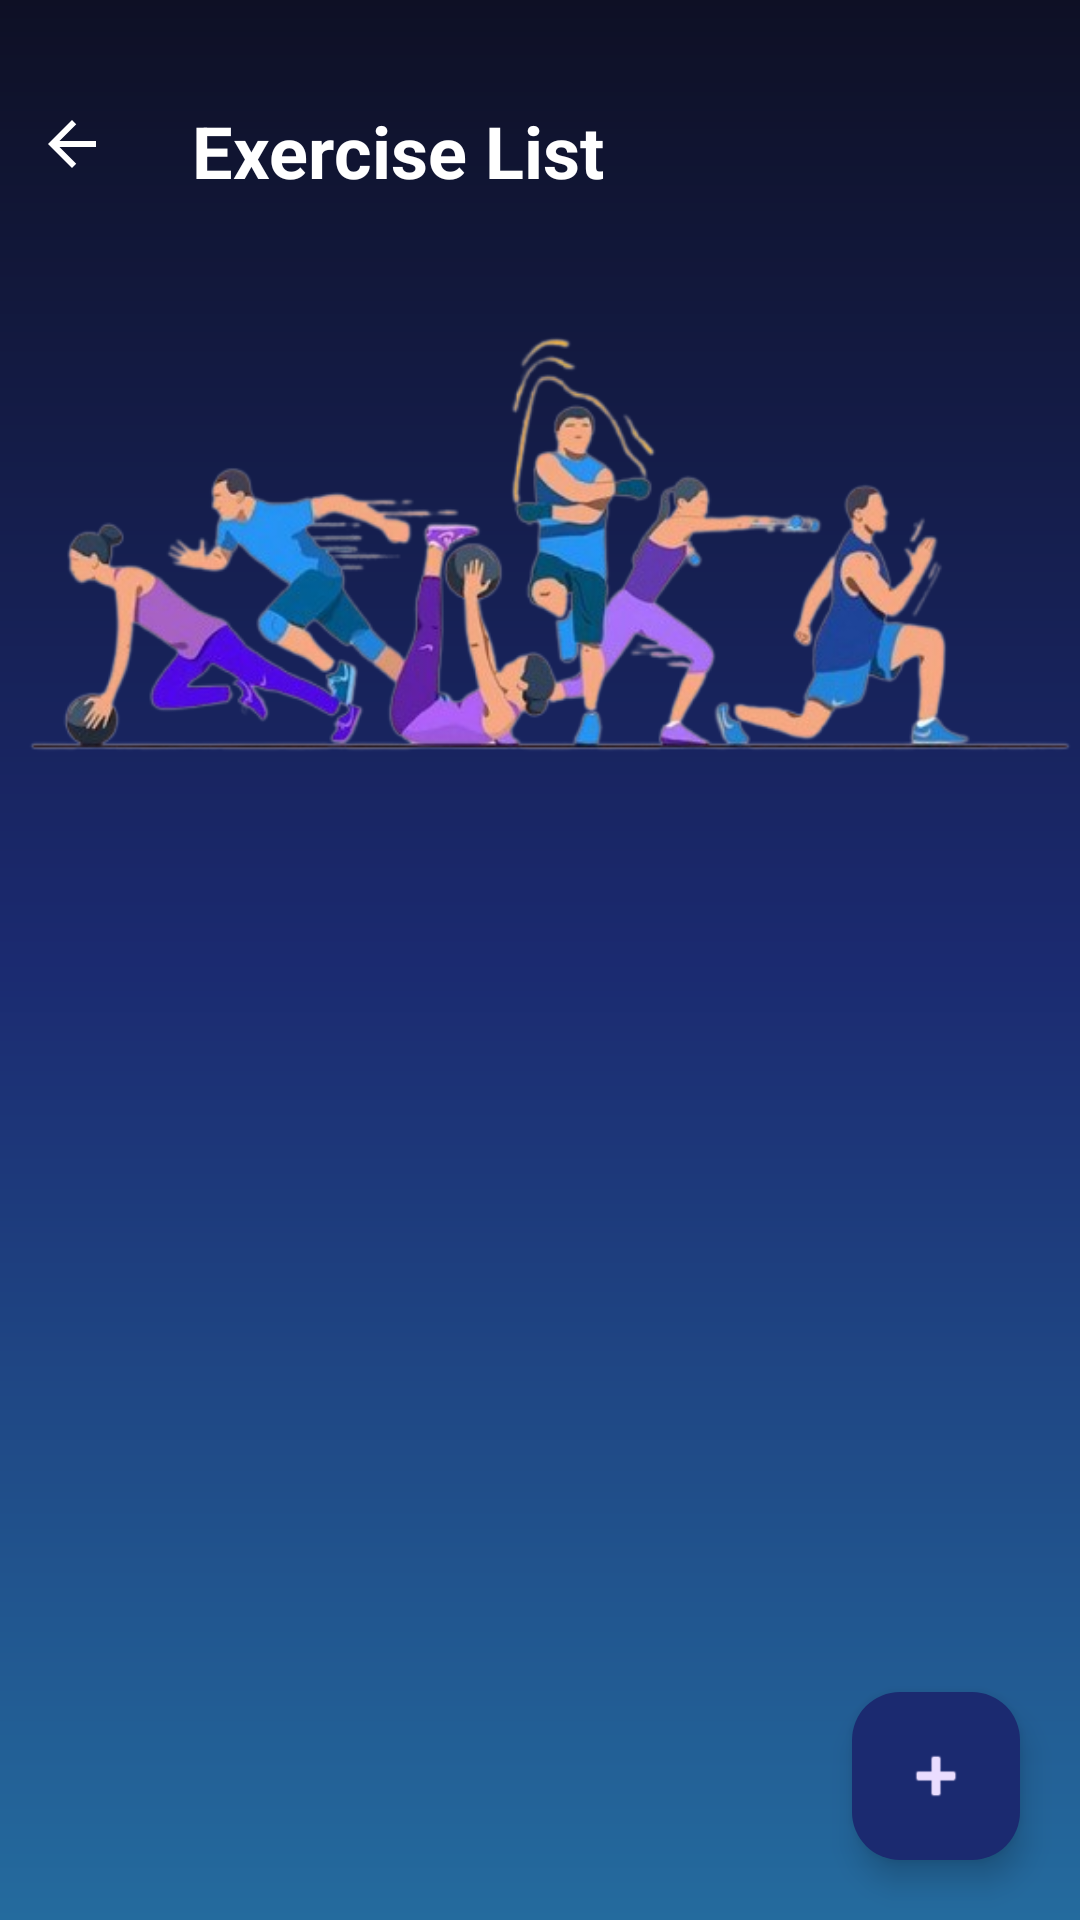

Named icons in this screenshot (1080x1920) and their centers, [x,y]:
Add exercise: [936,1776]
